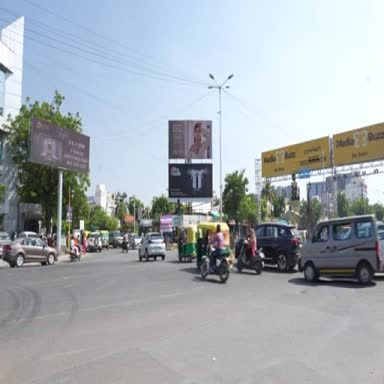Car: (298, 216, 383, 284), (255, 222, 302, 271), (2, 237, 57, 267), (139, 233, 165, 261), (87, 233, 101, 251), (109, 231, 122, 248), (0, 232, 11, 249), (128, 234, 140, 249), (20, 232, 39, 238)
